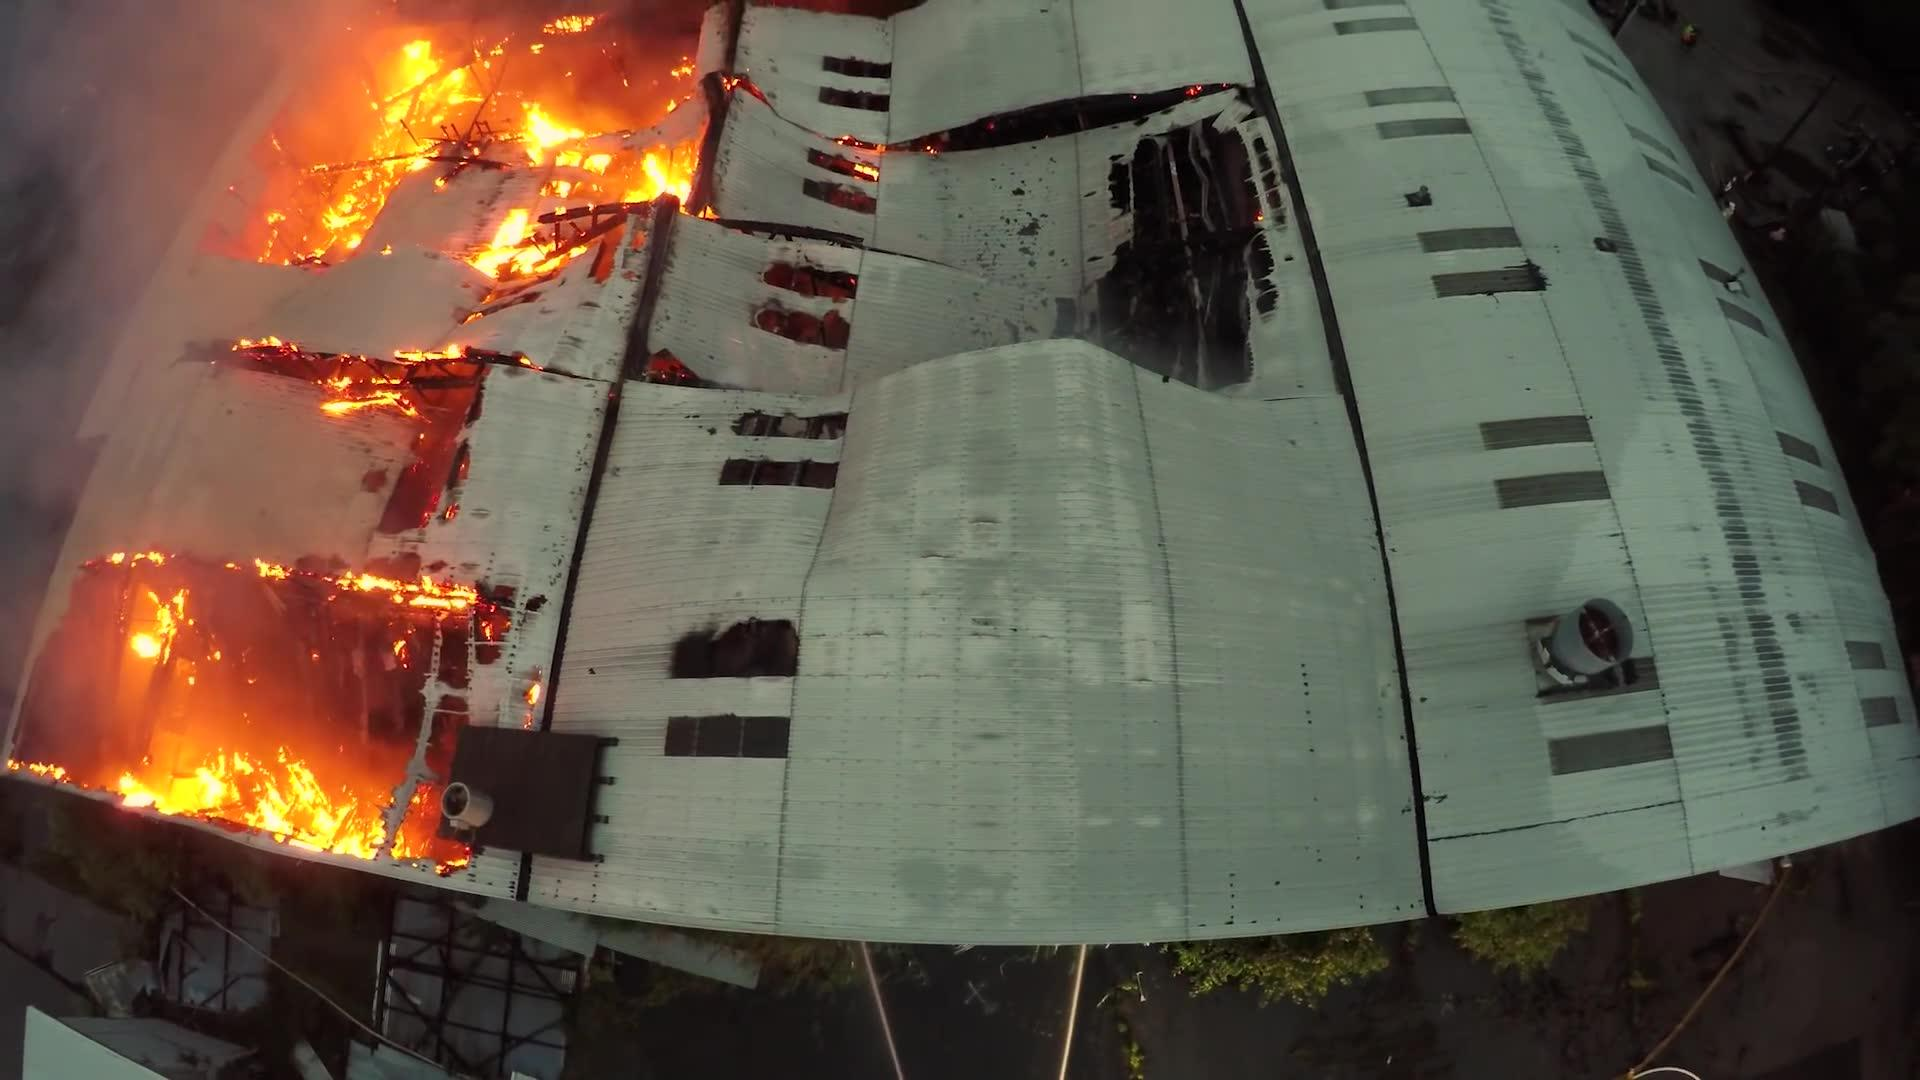fire: (51, 5, 771, 389), (46, 381, 497, 903)
